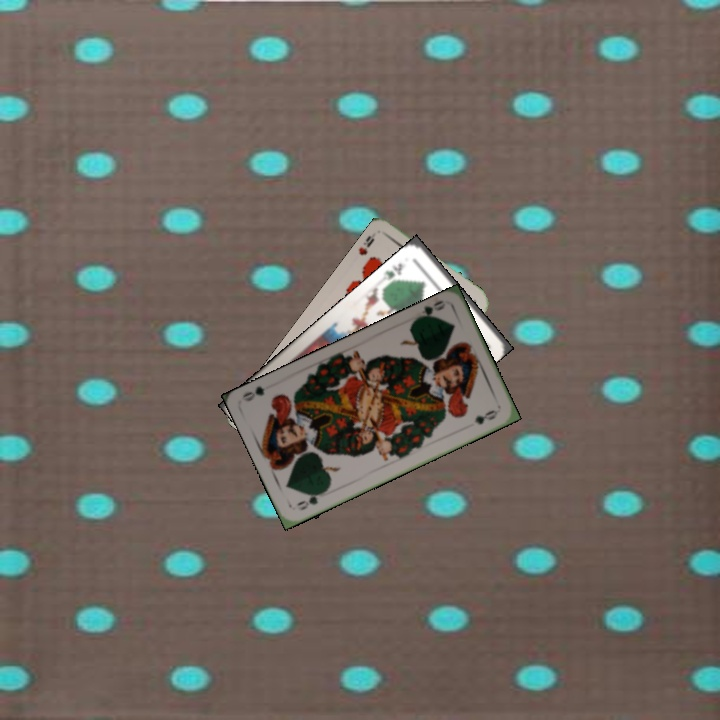GK: (379, 259, 405, 283)
GO: (411, 296, 448, 323), (293, 487, 328, 513)
H9: (354, 231, 377, 258)
